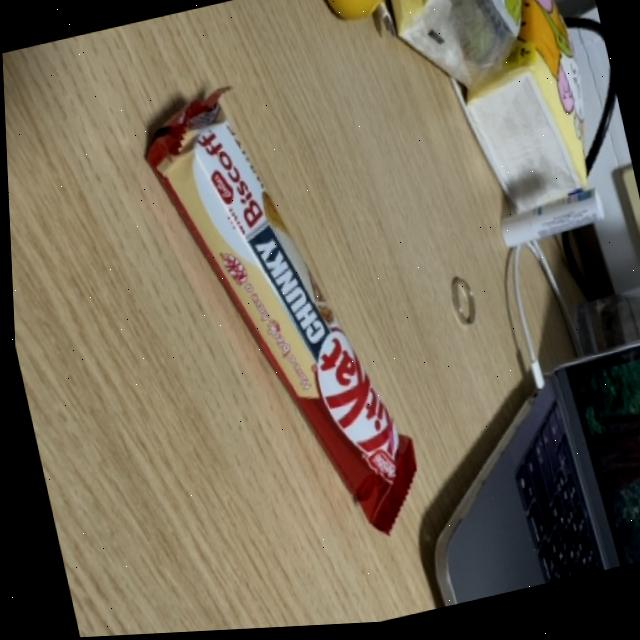chocolate: (128, 49, 430, 576)
